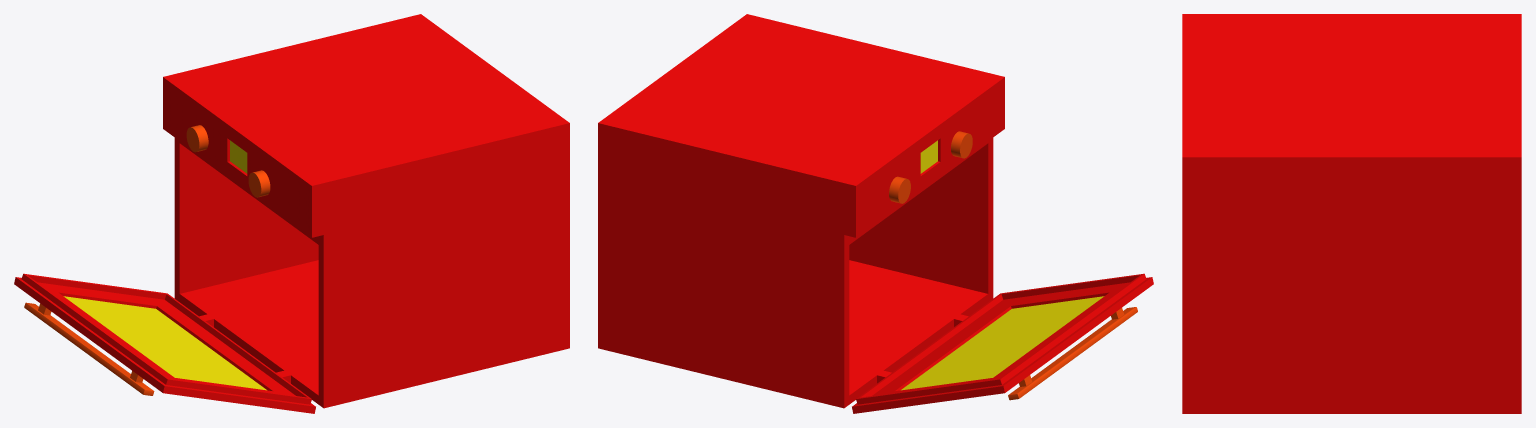
File: Four.FBX
3 views of the same model, side by side, from view 1: azimuth 30°, elevation 25°; view 2: azimuth 150°, elevation 25°; view 3: azimuth 270°, elevation 25° (orthographic). The views are drawn at different scales.
Parts seen in each view (by area): view 1: Four001; view 2: Four001; view 3: Four001.
Boxes of the visible parts, bbox=[...] form: Four001: bbox=[14, 14, 569, 413]; Four001: bbox=[598, 14, 1153, 413]; Four001: bbox=[1182, 14, 1521, 413].
Bounding box in the file's own units: 101 × 53.93 × 63.71.
